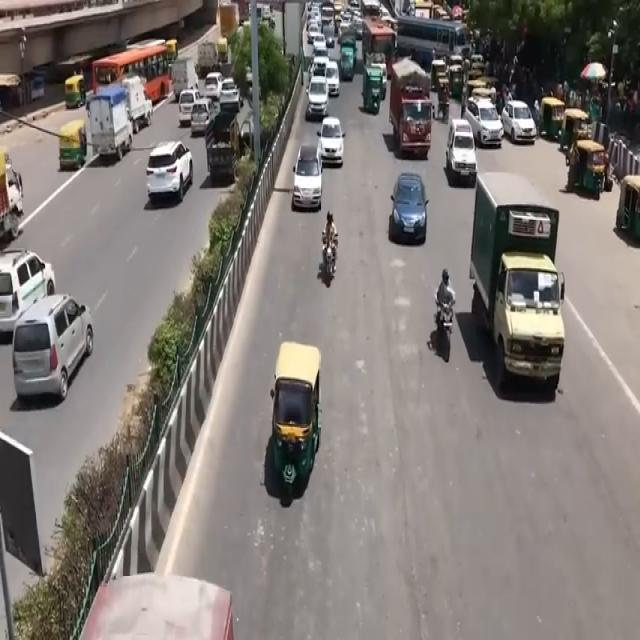MOTORCYCLE: (436, 304, 455, 368), (323, 238, 337, 288)
TRUCK: (478, 179, 569, 404), (84, 91, 132, 168)
